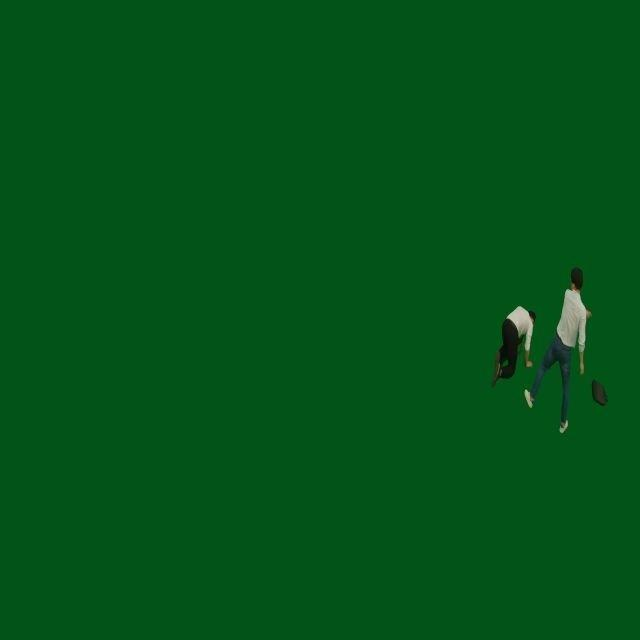fight: (494, 261, 599, 435)
